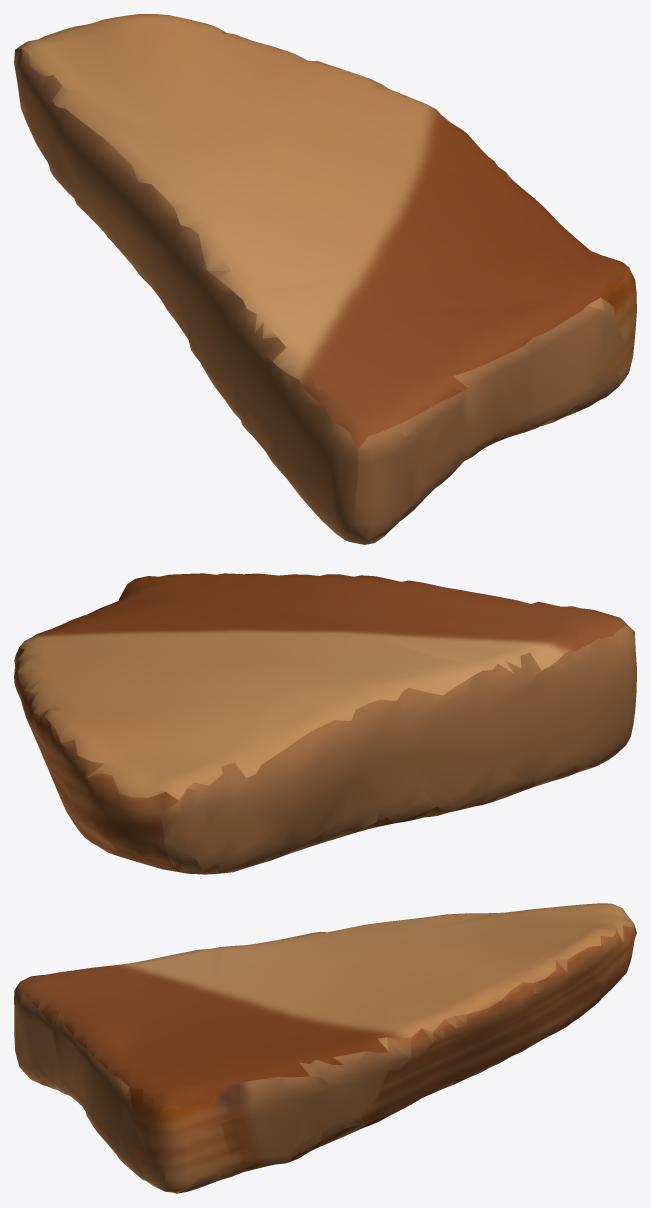
Rendered from Glacier_board03.fbx.
3 renders of one model, top to bottom at view 1: azimuth 30°, elevation 25°; view 2: azimuth 150°, elevation 25°; view 3: azimuth 270°, elevation 25°, orthographic. The views are drawn at different scales.
Parts seen in each view (by area): view 1: material_0; view 2: material_0; view 3: material_0.
Part boxes in pixels (x1,y1,x2,y2): material_0: (14, 14, 636, 544); material_0: (14, 573, 636, 874); material_0: (14, 903, 636, 1193).
Size of the model in its own units: 0.11 by 0.066 by 0.1928.
